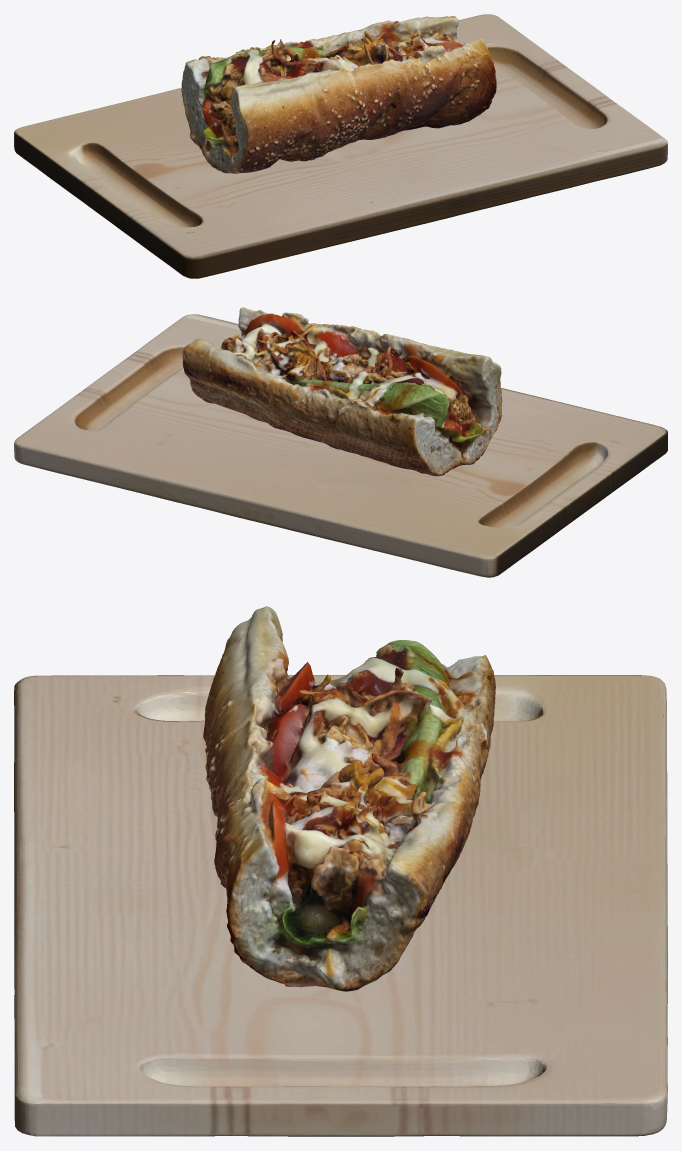
File: Strip.shawerma.glb
3 views of the same model, one above another, from view 1: azimuth 30°, elevation 25°; view 2: azimuth 150°, elevation 25°; view 3: azimuth 270°, elevation 25° (orthographic). The views are drawn at different scales.
Visible parts, largest first — view 1: world, 3DModel; view 2: world, 3DModel; view 3: world, 3DModel.
Boxes of the visible parts, <box> form: world: <box>14,14,667,278</box>; 3DModel: <box>181,16,496,173</box>; world: <box>14,314,667,577</box>; 3DModel: <box>182,307,502,476</box>; world: <box>14,675,667,1136</box>; 3DModel: <box>203,606,495,991</box>.
Size of the model in its own units: 0.4538 by 0.1058 by 0.2931.
Materials: 2 (2 with a texture image).
